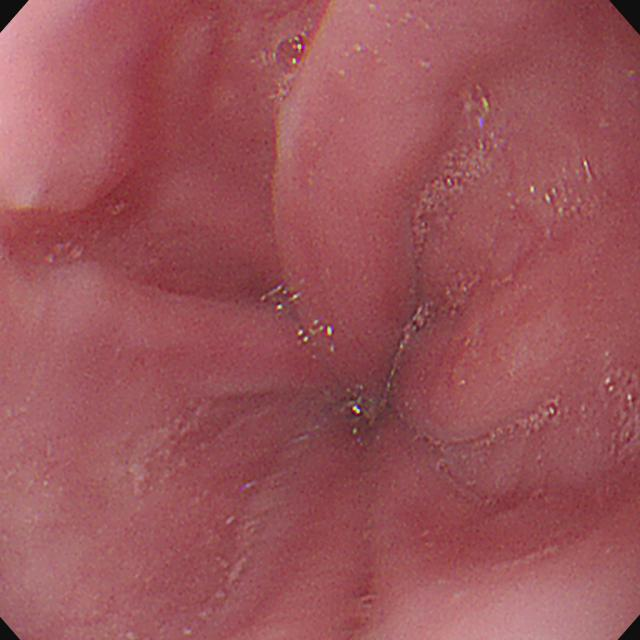J: (104, 410, 200, 502)
T: (274, 30, 307, 78)
